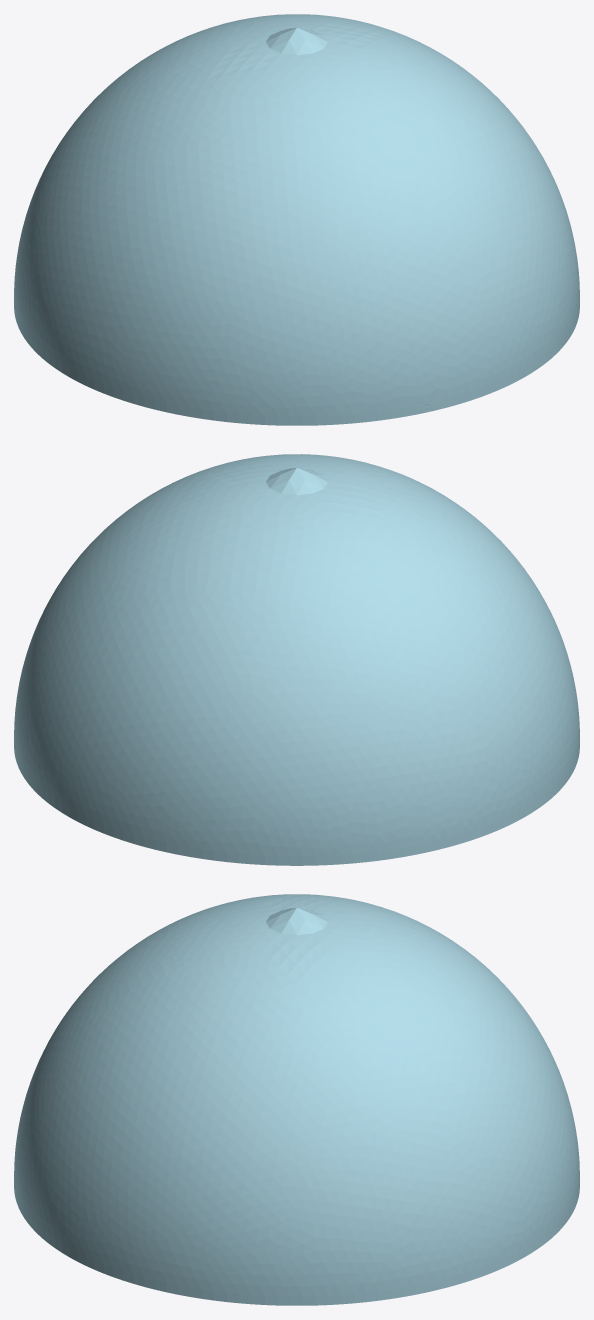
Rendered from overnight_hetero_zwaar.obj.
3 renders of one model, top to bottom at view 1: azimuth 30°, elevation 25°; view 2: azimuth 150°, elevation 25°; view 3: azimuth 270°, elevation 25°, orthographic.
Parts seen in each view (by area): view 1: grp1; view 2: grp1; view 3: grp1.
Boxes of the visible parts, x1,y1,x2,y2 form: grp1: (14, 14, 579, 425); grp1: (14, 454, 579, 865); grp1: (14, 894, 579, 1305).
Bounding box in the file's own units: 0.14 × 0.076 × 0.14.
